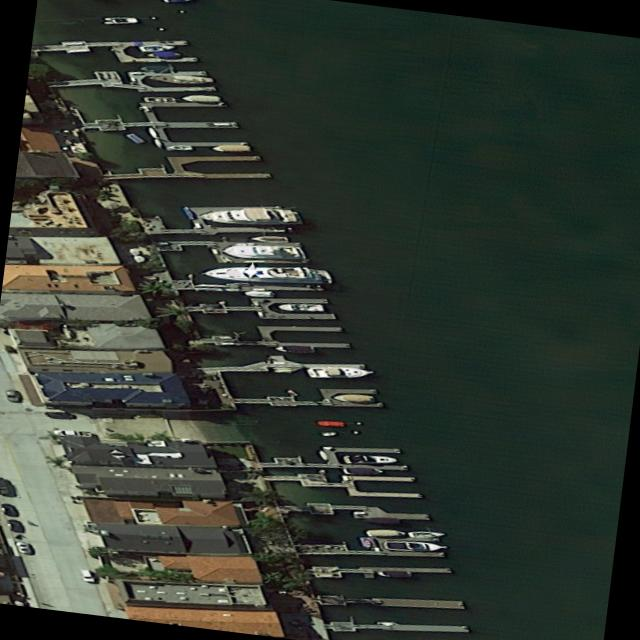ship: (198, 266, 335, 282), (195, 207, 304, 223), (221, 243, 306, 258), (304, 366, 375, 377), (380, 539, 449, 550), (145, 73, 215, 83), (340, 454, 398, 462), (248, 233, 290, 243), (98, 14, 143, 23), (276, 302, 324, 310), (274, 344, 316, 353), (136, 42, 178, 51), (346, 466, 387, 475), (330, 393, 374, 401), (362, 527, 404, 535), (210, 143, 251, 151), (362, 516, 402, 524), (141, 94, 180, 102), (314, 418, 348, 427), (406, 529, 448, 536), (143, 50, 181, 57), (245, 288, 274, 297), (180, 94, 220, 100), (140, 64, 173, 71), (377, 569, 412, 575), (168, 144, 195, 150), (316, 449, 331, 459), (319, 430, 337, 435)
small-vehicle: (50, 428, 93, 437), (6, 518, 25, 531), (43, 409, 73, 417), (12, 540, 32, 552), (2, 387, 20, 400), (78, 568, 97, 580), (0, 502, 16, 515), (0, 475, 9, 493)
